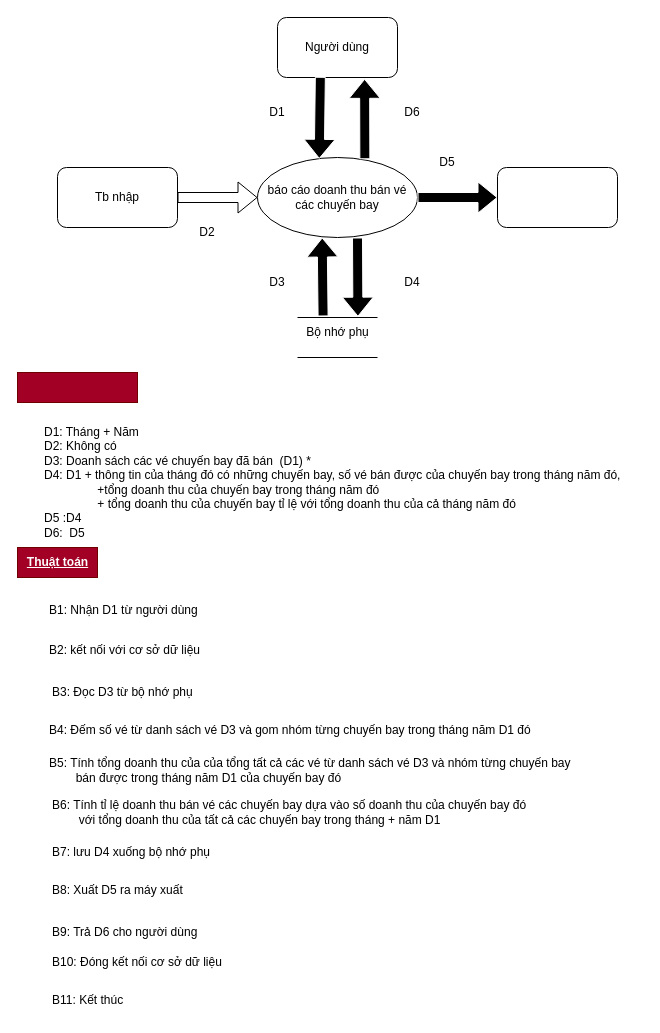
This 660x1033 diagram has some shape labels left out. The shapes that lost their labels are listed below. From the top down, each one's centre as x and y in pixels, then its label:
At point (557, 197): "Tb xuất".
At point (77, 387): "Mô tả luồng dữ liệu".
